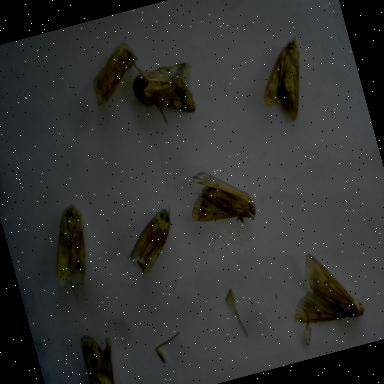abw: (278, 242, 368, 340), (246, 31, 322, 130), (124, 42, 206, 132), (180, 156, 260, 238), (36, 197, 103, 291), (118, 200, 190, 280), (81, 40, 149, 109), (72, 324, 132, 384)
